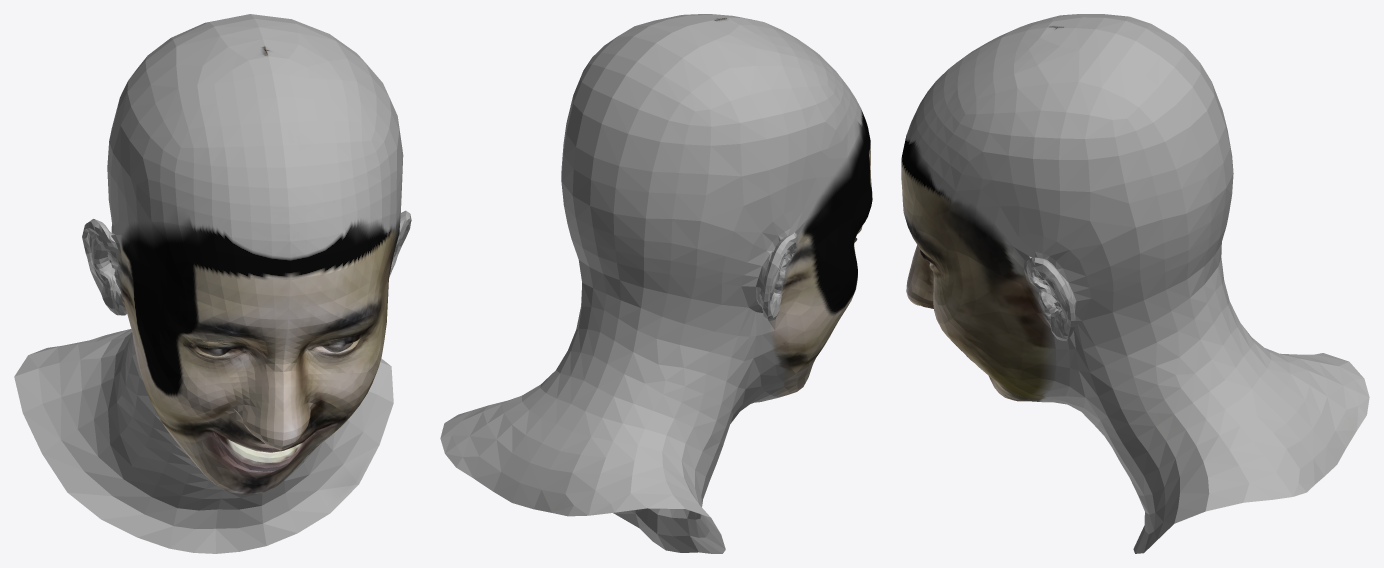
File: ezgif-frame-010.obj
3 views of the same model, side by side, from view 1: azimuth 30°, elevation 25°; view 2: azimuth 150°, elevation 25°; view 3: azimuth 270°, elevation 25° (orthographic). The views are drawn at different scales.
Size of the model in its own units: 0.2058 by 0.3226 by 0.2709.
Materials: 1 (1 with a texture image).
